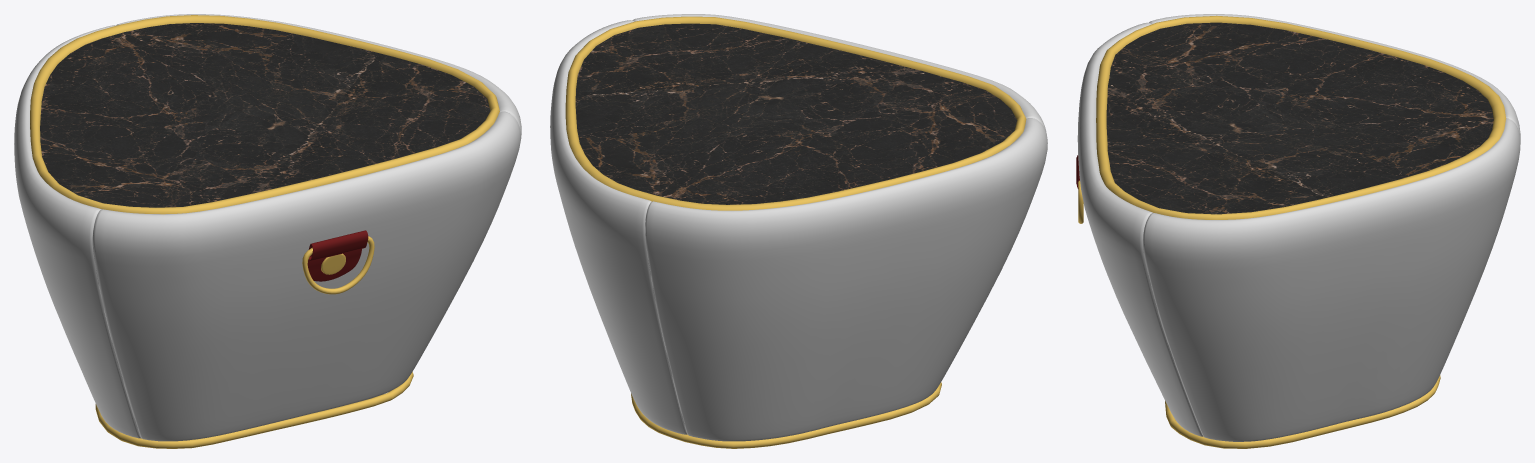
The model's file is SLN_TRILOGY_SMALL.glb.
3 views of the same model, side by side, from view 1: azimuth 30°, elevation 25°; view 2: azimuth 150°, elevation 25°; view 3: azimuth 270°, elevation 25° (orthographic). The views are drawn at different scales.
Parts seen in each view (by area): view 1: TRILOGY_SMALL; view 2: TRILOGY_SMALL; view 3: TRILOGY_SMALL.
Part boxes in pixels (<box>): TRILOGY_SMALL: <box>14,14,521,448</box>; TRILOGY_SMALL: <box>550,14,1047,448</box>; TRILOGY_SMALL: <box>1076,14,1520,448</box>.
Size of the model in its own units: 0.6471 by 0.367 by 0.5567.
Materials: 4 (1 with a texture image).
